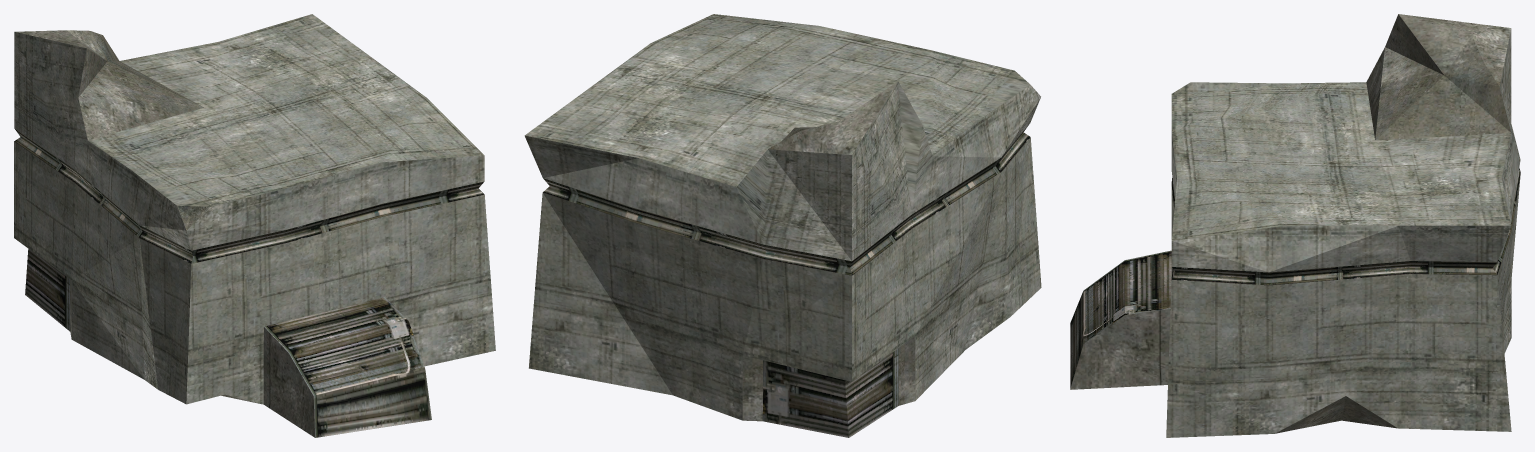
Rendered from thm_prp_junk_s4_l0.fbx.
3 views of the same model, side by side, from view 1: azimuth 30°, elevation 25°; view 2: azimuth 150°, elevation 25°; view 3: azimuth 270°, elevation 25° (orthographic). The views are drawn at different scales.
Parts seen in each view (by area): view 1: mesh_node; view 2: mesh_node; view 3: mesh_node.
Boxes of the visible parts, box(x1,y1,x2,y2) form: mesh_node: box(14, 14, 495, 437); mesh_node: box(524, 14, 1041, 437); mesh_node: box(1070, 14, 1520, 437).
Bounding box in the file's own units: 3.17 × 2.82 × 3.97.
